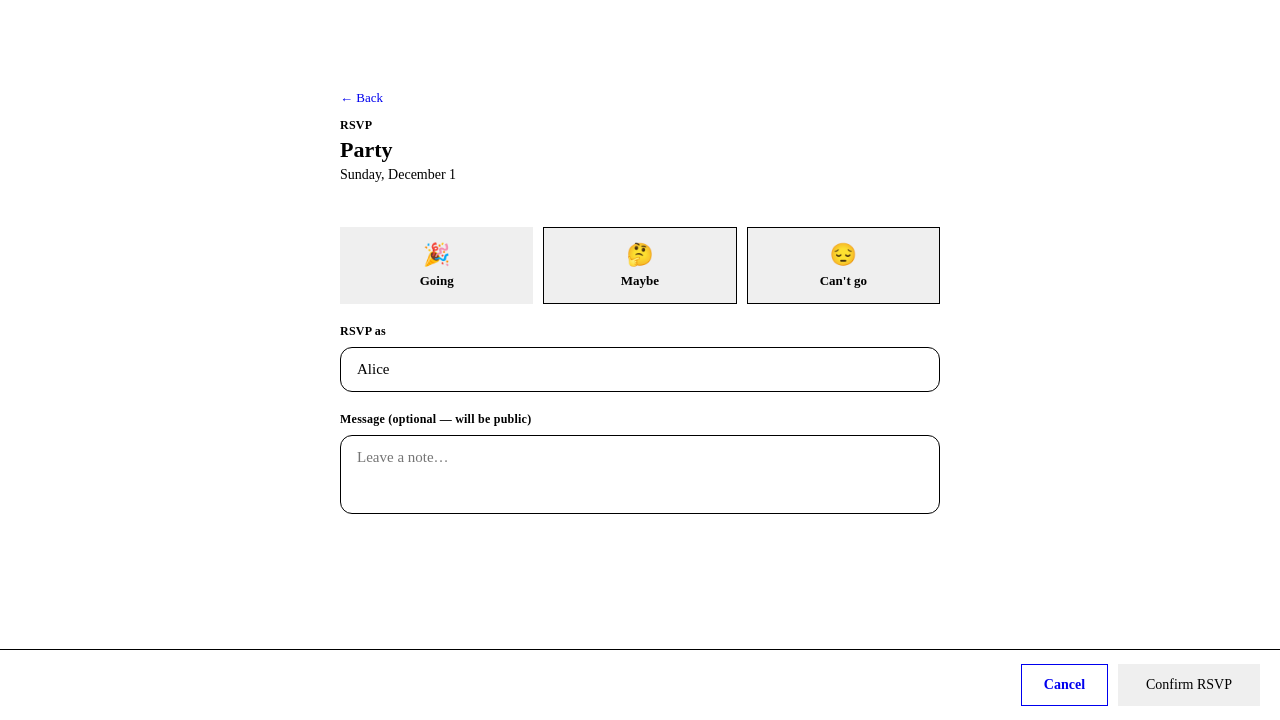
#754 edit-link box on the RSVP done screen › tells an invitee with a contact on file where their link is, without the warning
Click the button "Confirm RSVP": (1189, 685) [1118,664,1260,706]
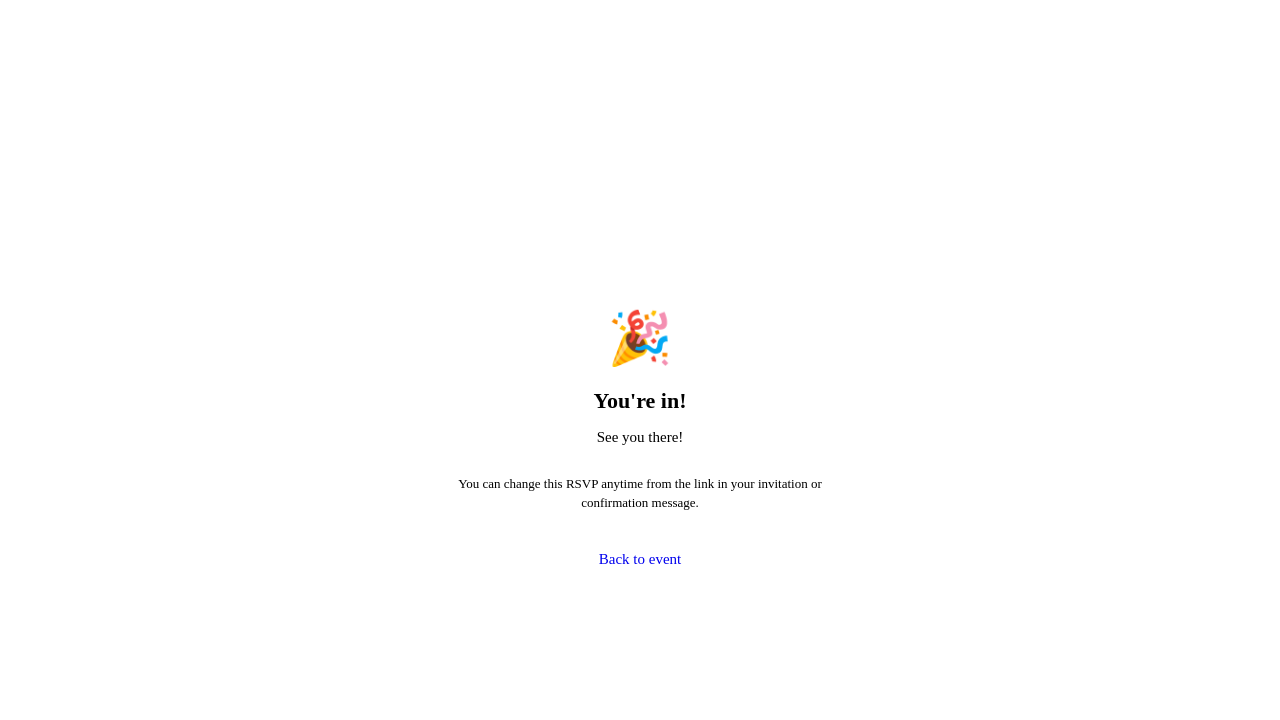
Expected: the heading "You're in!" is shown, [593,388,686,413]
Expected: the text "from the link in your invitation or confirmation message" is shown, [458,476,822,510]
